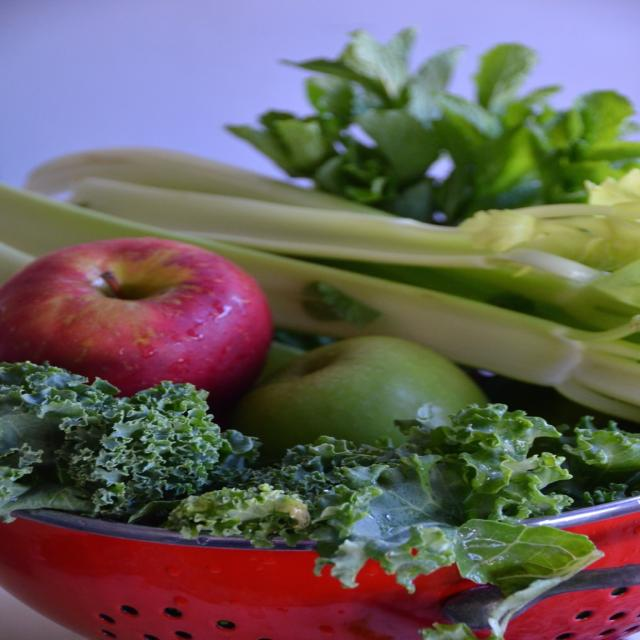Healty Apple: (4, 239, 276, 413), (220, 340, 493, 458)
